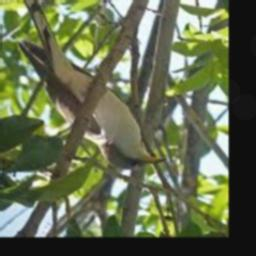Cuckoo: (7, 0, 166, 170)
